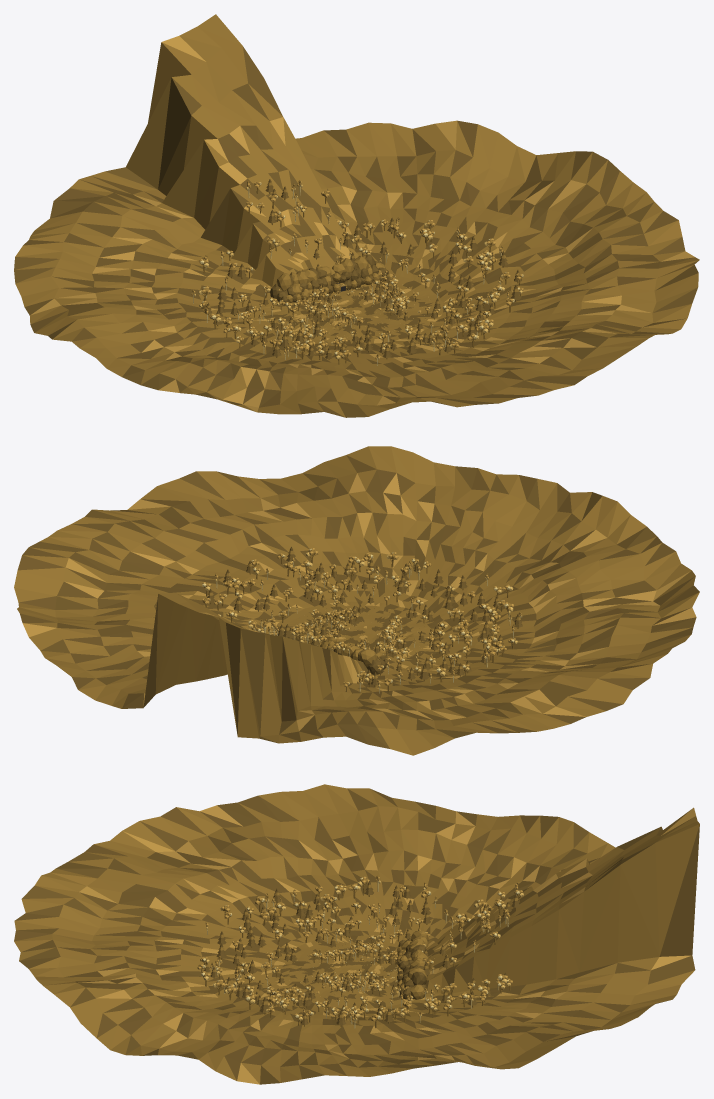
File: oppidium.glb
3 views of the same model, one above another, from view 1: azimuth 30°, elevation 25°; view 2: azimuth 150°, elevation 25°; view 3: azimuth 270°, elevation 25° (orthographic).
Parts seen in each view (by area): view 1: batch_gold_dark, batch_gold_deep, batch_gold, batch_far_gold_dark, batch_far_gold_deep, batch_far_gold, batch_far_gold_bright, batch_far_gold_pale; view 2: batch_gold_dark, batch_gold_deep, batch_gold, batch_far_gold_dark, batch_far_gold_deep, batch_far_gold, batch_far_gold_bright, batch_far_gold_pale; view 3: batch_gold_dark, batch_gold_deep, batch_gold, batch_far_gold_dark, batch_far_gold_deep, batch_far_gold, batch_far_gold_bright, batch_far_gold_pale.
Part boxes in pixels (x1,y1,x2,y2): batch_gold_dark: (14, 14, 699, 417); batch_gold_deep: (14, 46, 698, 417); batch_gold: (30, 36, 694, 411); batch_far_gold_dark: (192, 180, 522, 364); batch_far_gold_deep: (201, 179, 521, 358); batch_far_gold: (191, 181, 523, 359); batch_far_gold_bright: (194, 184, 522, 359); batch_far_gold_pale: (193, 182, 523, 365); batch_gold_dark: (14, 446, 699, 755); batch_gold_deep: (17, 455, 699, 748); batch_gold: (22, 473, 696, 730); batch_far_gold_dark: (203, 549, 520, 692); batch_far_gold_deep: (207, 546, 522, 685); batch_far_gold: (202, 548, 521, 686); batch_far_gold_bright: (205, 552, 522, 687); batch_far_gold_pale: (202, 548, 520, 693); batch_gold_dark: (14, 784, 699, 1083); batch_gold_deep: (14, 788, 699, 1084); batch_gold: (78, 805, 695, 1084); batch_far_gold_dark: (198, 875, 521, 1027); batch_far_gold_deep: (203, 881, 520, 1025); batch_far_gold: (197, 876, 522, 1021); batch_far_gold_bright: (203, 880, 523, 1020); batch_far_gold_pale: (201, 877, 519, 1028).
Bounding box in the file's own units: 125 × 33.72 × 124.
